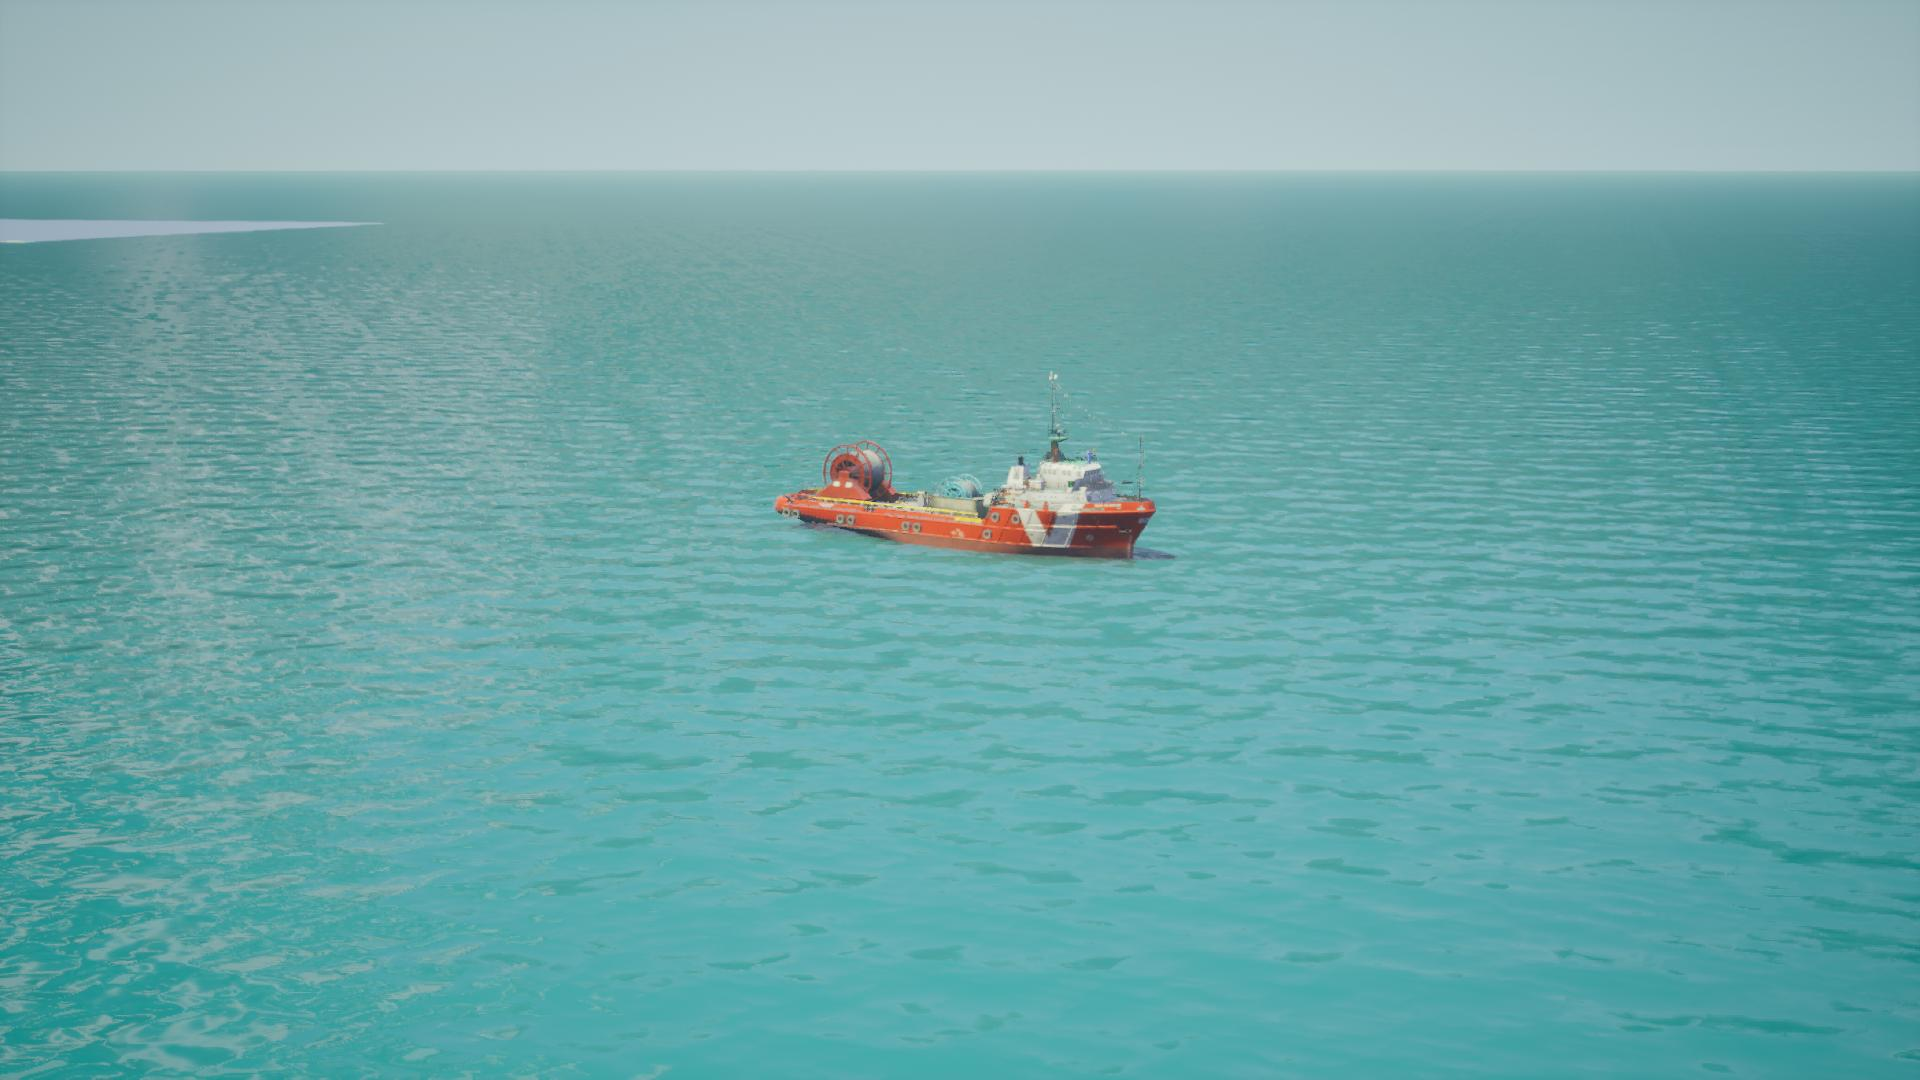Tug Boat: (771, 375, 1166, 571)
